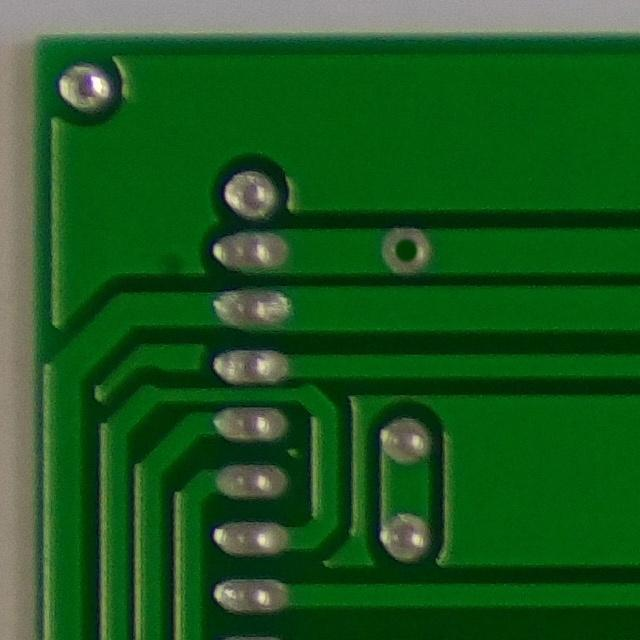missing_hole: (367, 217, 441, 281)
